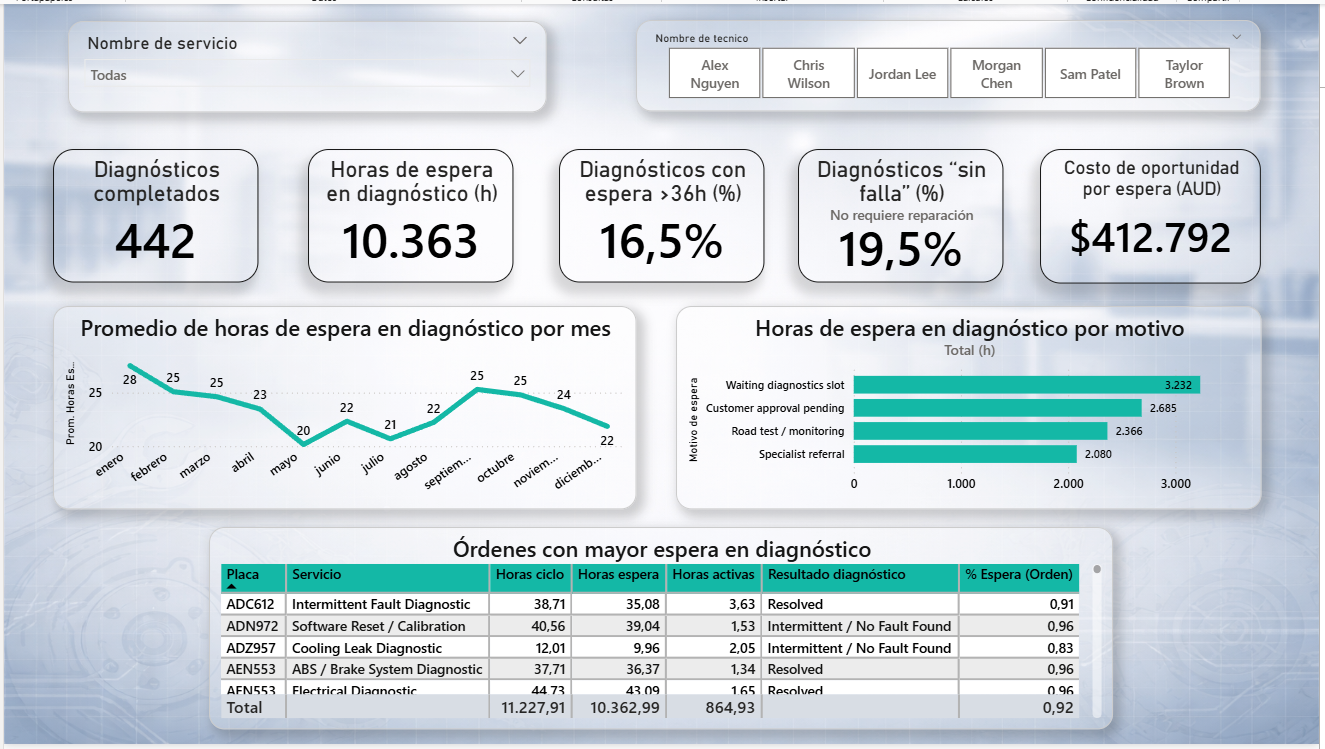

Layout of this report page (visuals, bound fields, positions):
{"tool":"powerbi","page":{"name":"Fuga #1: Diagnóstico & Flujo","canvas":[1280,720],"ordinal":1},"visuals":[{"type":"card","title":"Diagnósticos con espera >36h (%)","fields":{"Values":["Medidas.Diagnósticos Lentos % ( > 24h )"]},"box":[540,141.1,200,130],"z":0},{"type":"card","title":"Diagnósticos completados","fields":{"Values":["Medidas.Diagnósticos (Completados) - Tec Principal"]},"box":[47.5,141.2,200,130],"z":1000},{"type":"card","title":"Diagnósticos “sin falla” (%)","fields":{"Values":["Medidas.Diagnóstico \"Sin falla\" %"]},"box":[773.3,141.1,200,130],"z":2000},{"type":"card","title":"Costo de oportunidad por espera (AUD)","fields":{"Values":["Medidas.Costo Oportunidad Espera (Diagnóstico)"]},"box":[1008.5,140.8,215.2,130.7],"z":3000},{"type":"lineChart","title":"Promedio de horas de espera en diagnóstico por mes","fields":{"Category":["DatetableTbl.YearMonth.Variación.Jerarquía de fechas.Año","DatetableTbl.YearMonth.Variación.Jerarquía de fechas.Trimestre","DatetableTbl.YearMonth.Variación.Jerarquía de fechas.Mes","DatetableTbl.YearMonth.Variación.Jerarquía de fechas.Día"],"Y":["Medidas.Prom. Horas Espera (Diagnóstico)"]},"box":[47.5,293.8,567.5,197.5],"z":4000},{"type":"barChart","title":"Horas de espera en diagnóstico por motivo","fields":{"Category":["WorkOrdersTbl.hold_reason"],"Y":["Medidas.Horas Espera (Diagnóstico)"]},"box":[653.8,293.8,570,197.5],"z":5000},{"type":"tableEx","title":"Órdenes con mayor espera en diagnóstico","fields":{"Values":["VehiclesTbl.plate","PrimaryServicesTbl.service_name","Sum(WorkOrdersTbl.cycle_hours)","Sum(WorkOrdersTbl.waiting_hours)","Sum(WorkOrdersTbl.active_labor_hours)","WorkOrdersTbl.diagnosis_outcome","Medidas.% Espera (Orden)"]},"box":[199.4,509.3,880,197.2],"z":6000},{"type":"slicer","fields":{"Values":["PrimaryServicesTbl.service_name"]},"box":[62.5,16.2,466.2,88.8],"z":7000},{"type":"slicer","fields":{"Values":["TechniciansTbl.technician_name"]},"box":[615.2,15.8,608.5,89],"z":8000},{"type":"card","title":"Horas de espera en diagnóstico (h)","fields":{"Values":["Medidas.Horas Espera (Diagnóstico)"]},"box":[295.6,141.1,200,130],"z":9000}]}

Visuals, with their boxes in screenshot pixels (x1, y1, x2, y2), scaled from the page's 1280x720 canvas onto the 1325x749 screenshot:
"Diagnósticos con espera >36h (%)" card: {"left": 559, "top": 147, "right": 766, "bottom": 282}
"Diagnósticos completados" card: {"left": 49, "top": 147, "right": 256, "bottom": 282}
"Diagnósticos “sin falla” (%)" card: {"left": 800, "top": 147, "right": 1008, "bottom": 282}
"Costo de oportunidad por espera (AUD)" card: {"left": 1044, "top": 146, "right": 1267, "bottom": 282}
"Promedio de horas de espera en diagnóstico por mes" lineChart: {"left": 49, "top": 306, "right": 637, "bottom": 511}
"Horas de espera en diagnóstico por motivo" barChart: {"left": 677, "top": 306, "right": 1267, "bottom": 511}
"Órdenes con mayor espera en diagnóstico" tableEx: {"left": 206, "top": 530, "right": 1117, "bottom": 735}
slicer - PrimaryServicesTbl.service_name: {"left": 65, "top": 17, "right": 547, "bottom": 109}
slicer - TechniciansTbl.technician_name: {"left": 637, "top": 16, "right": 1267, "bottom": 109}
"Horas de espera en diagnóstico (h)" card: {"left": 306, "top": 147, "right": 513, "bottom": 282}
